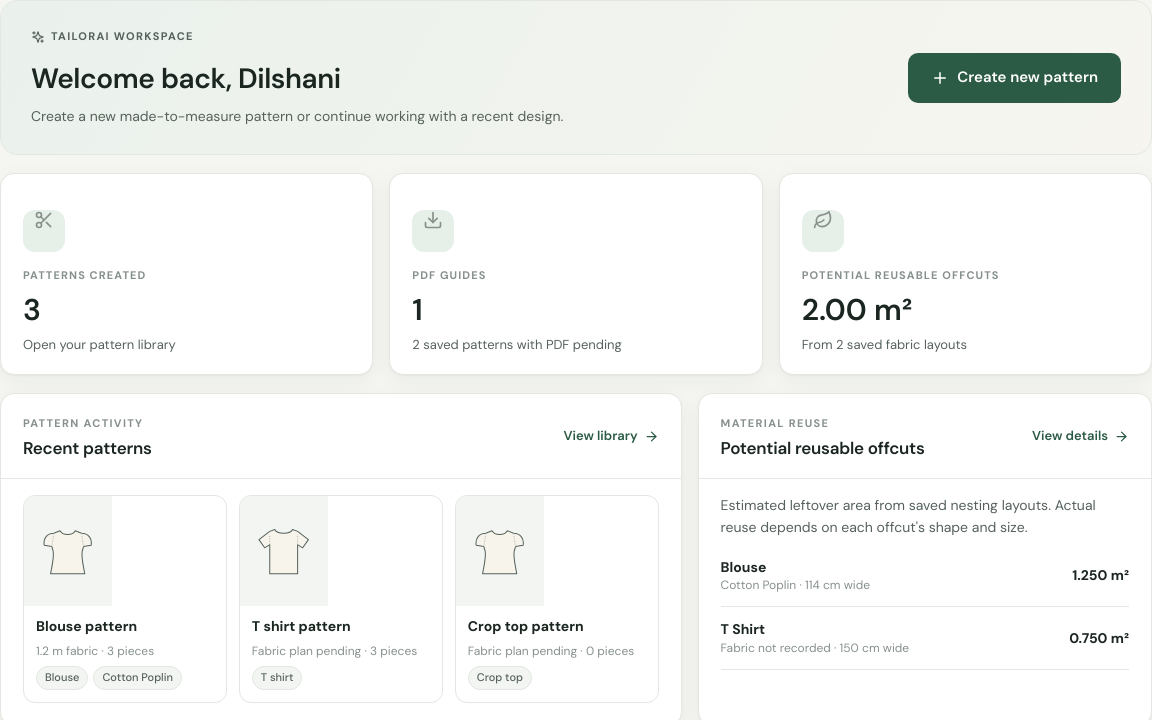
Scenario: Dashboard data and navigation › opens the saved offcut detail page from the metric card
Click the button "Potential reusable offcuts" at (965, 274), box [779,173,1151,376]
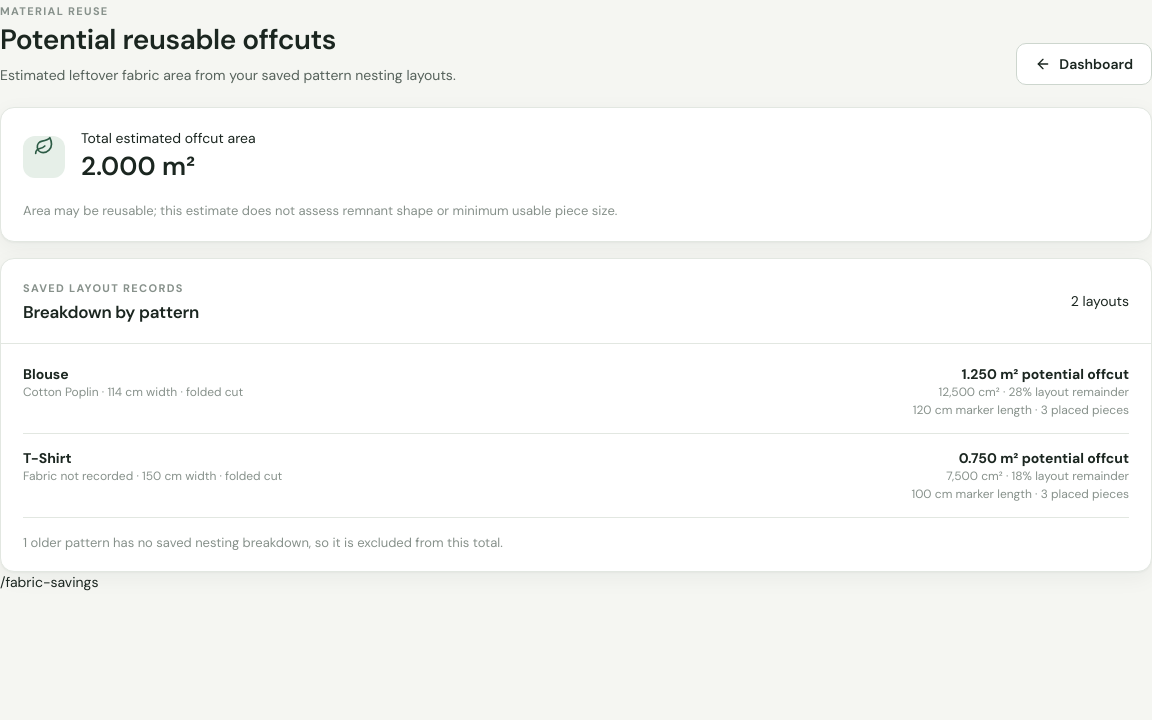
Expected: the text with test id "current-path" reads "/fabric-savings", [0,573,98,591]
Expected: the text "Total estimated offcut area" is shown, [81,128,256,148]
Expected: the text "2.000 m²" is shown, [81,150,195,184]
